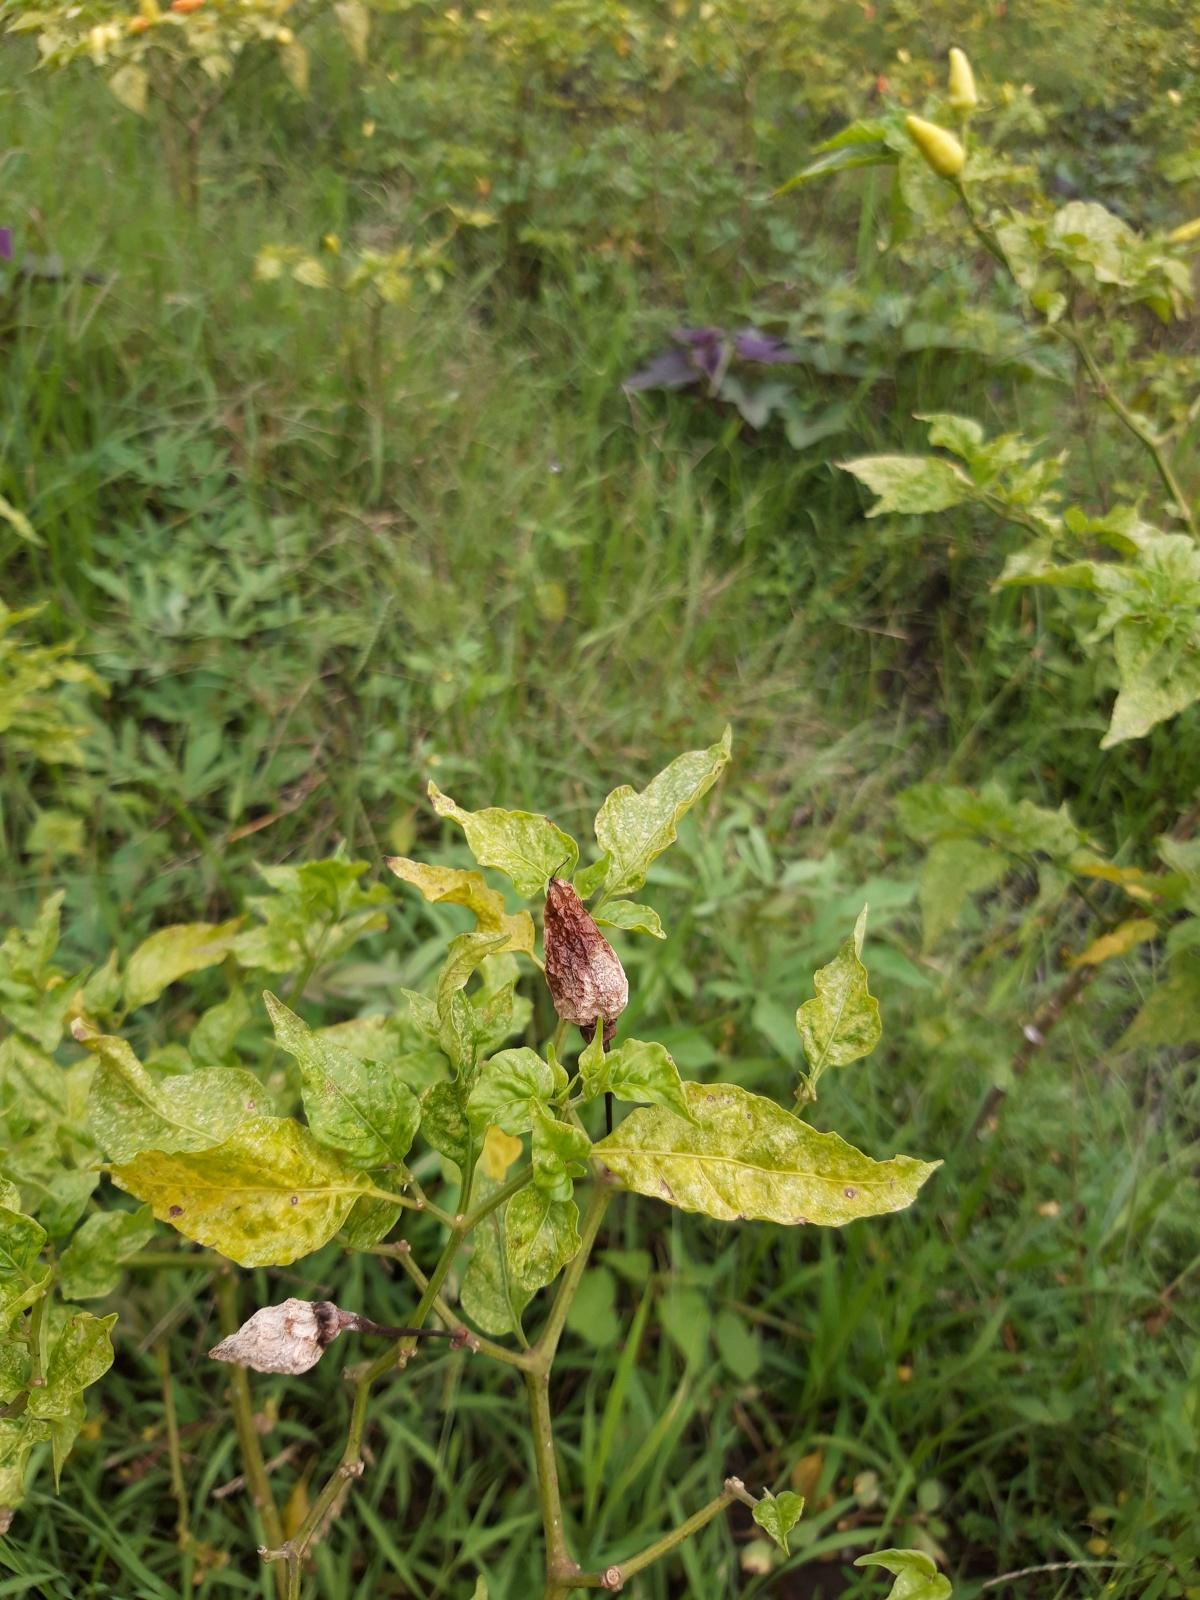antraknosa: (543, 876, 629, 1043), (207, 1296, 359, 1376)
cabai_normal: (904, 113, 966, 184), (947, 47, 977, 121)
